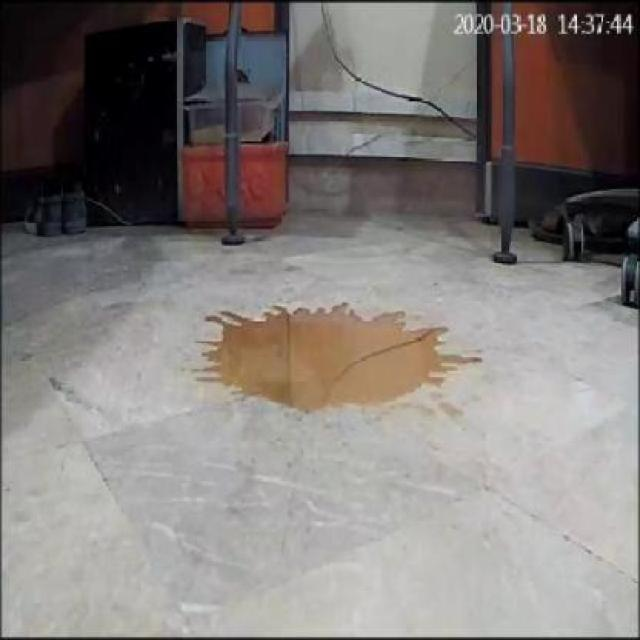spillage: (207, 307, 448, 415)
